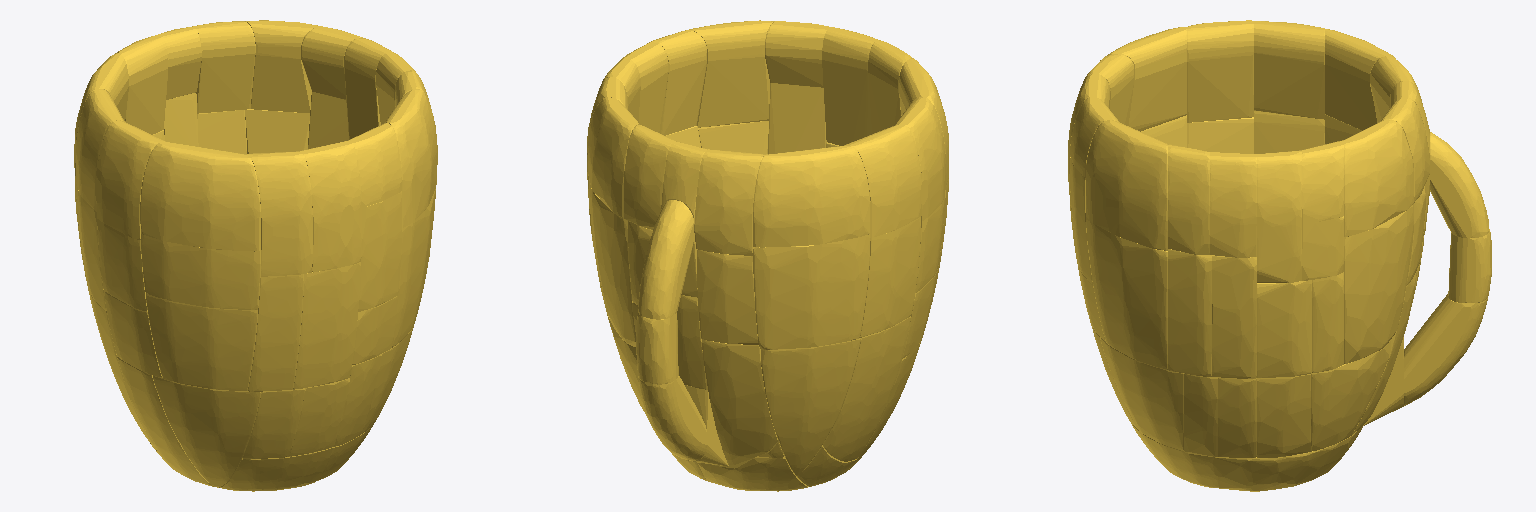
The robot description file, URDF, robot "1008.urdf":
<?xml version="1.0" ?>
<robot name="1008.urdf">
	<link name="baseLink">
		<inertial>
			<origin rpy="0 0 0" xyz="0 0 0"/>
				<mass value="0.1"/>
				<inertia ixx="6e-5" ixy="0" ixz="0" iyy="6e-5" iyz="0" izz="6e-5"/>
		</inertial>
		<visual>
			<origin rpy="0 0 0" xyz="0 0 0"/>
			<geometry>
				<mesh filename="2_decom_wt.obj" scale="0.94 0.94 0.89"/>
			</geometry>
			<material name="yellow">
				<color rgba="0.98 0.84 0.35 1"/>
			</material>
		</visual>
		<collision>
			<origin rpy="0 0 0" xyz="0 0 0"/>
			<geometry>
				<mesh filename="2_decom_wt.obj" scale="0.94 0.94 0.89"/>
			</geometry>
		</collision>
	</link>
</robot>

--- Render facts (derived) ---
Views: 3 orthographic renders of the robot side by side, from view 1: azimuth 30°, elevation 25°; view 2: azimuth 150°, elevation 25°; view 3: azimuth 270°, elevation 25°.
Model 1008.urdf with 1 links and 0 joints (none), rooted at baseLink, posed every joint at zero.
Visible links, largest first — view 1: baseLink; view 2: baseLink; view 3: baseLink.
Link boxes in pixels (x1,y1,x2,y2): baseLink: (74, 20, 437, 491); baseLink: (587, 20, 948, 491); baseLink: (1068, 20, 1491, 491).
Bounding box of the posed robot: 0.082 × 0.096 × 0.0918 m (x, y, z).
Meshes: 1 distinct files referenced, 1 mesh visuals loaded (1 OBJ).